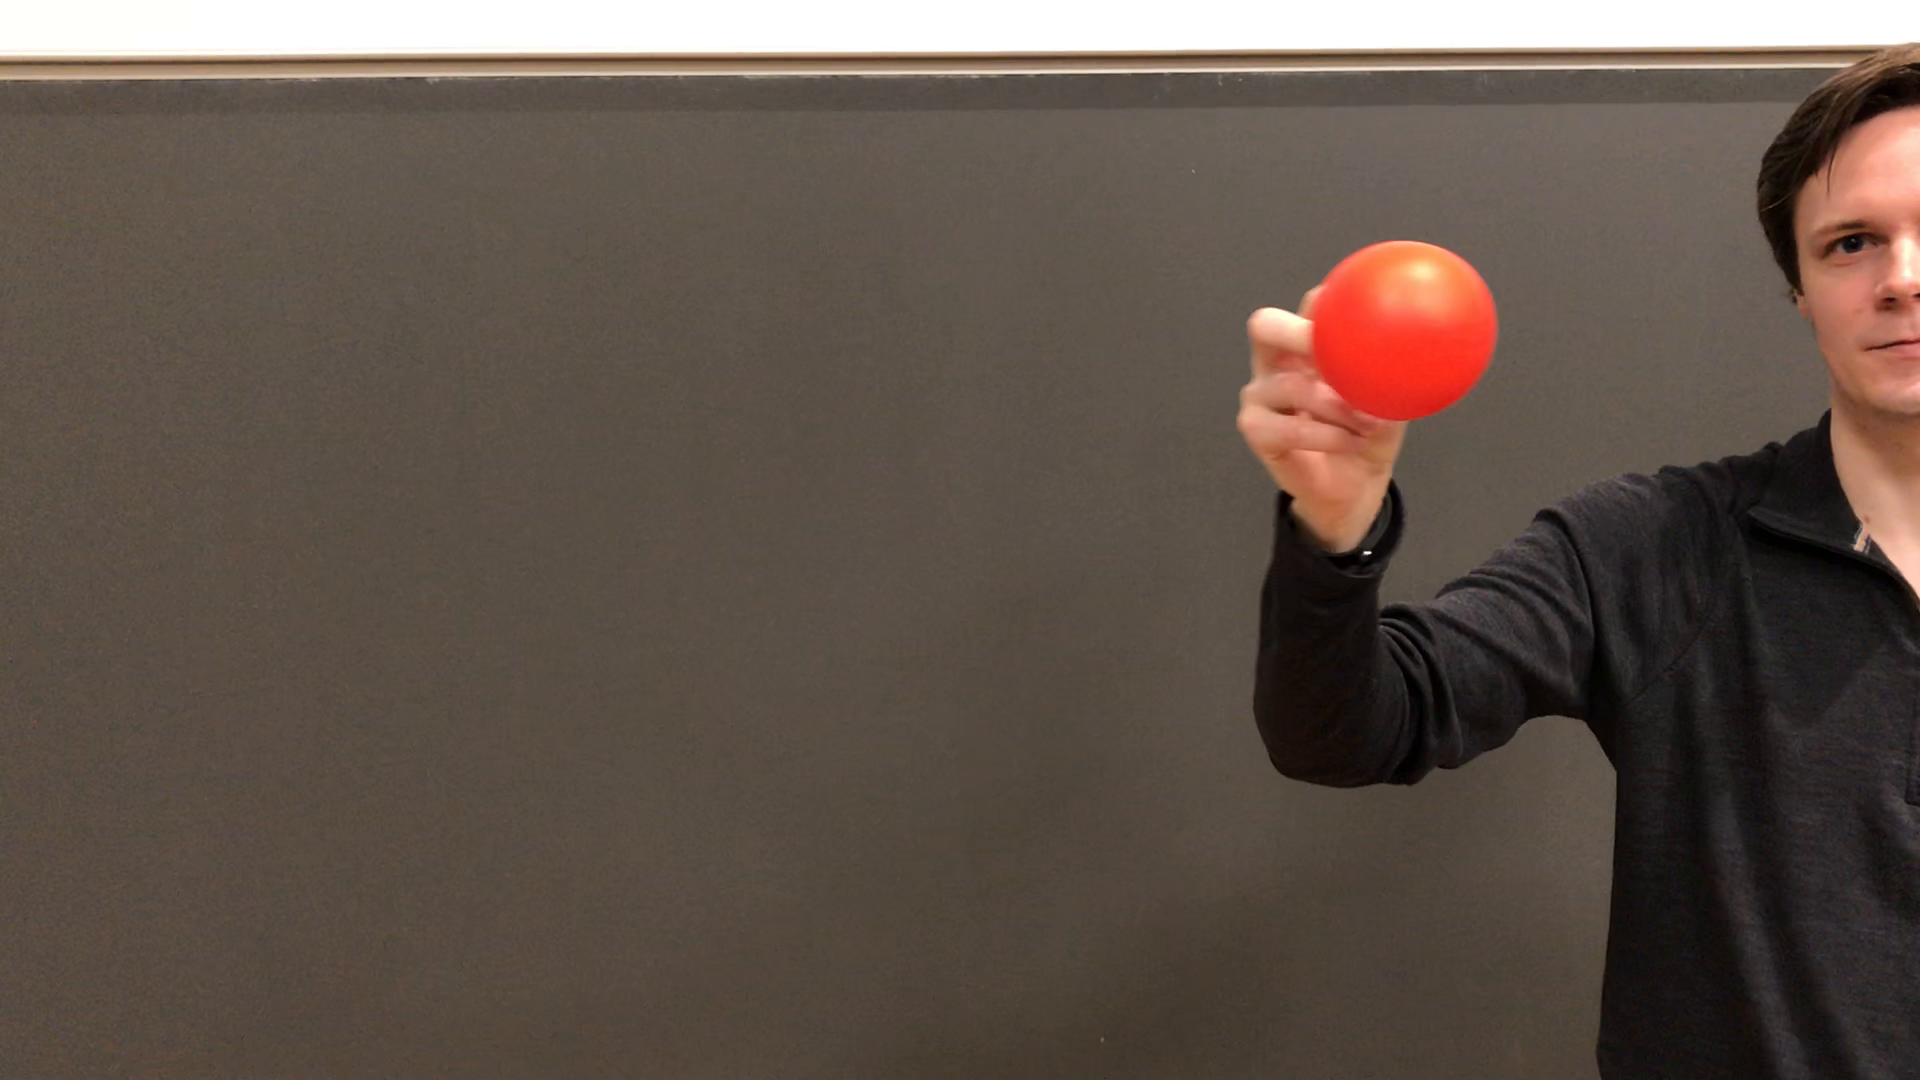Ball: (1319, 237, 1495, 426)
